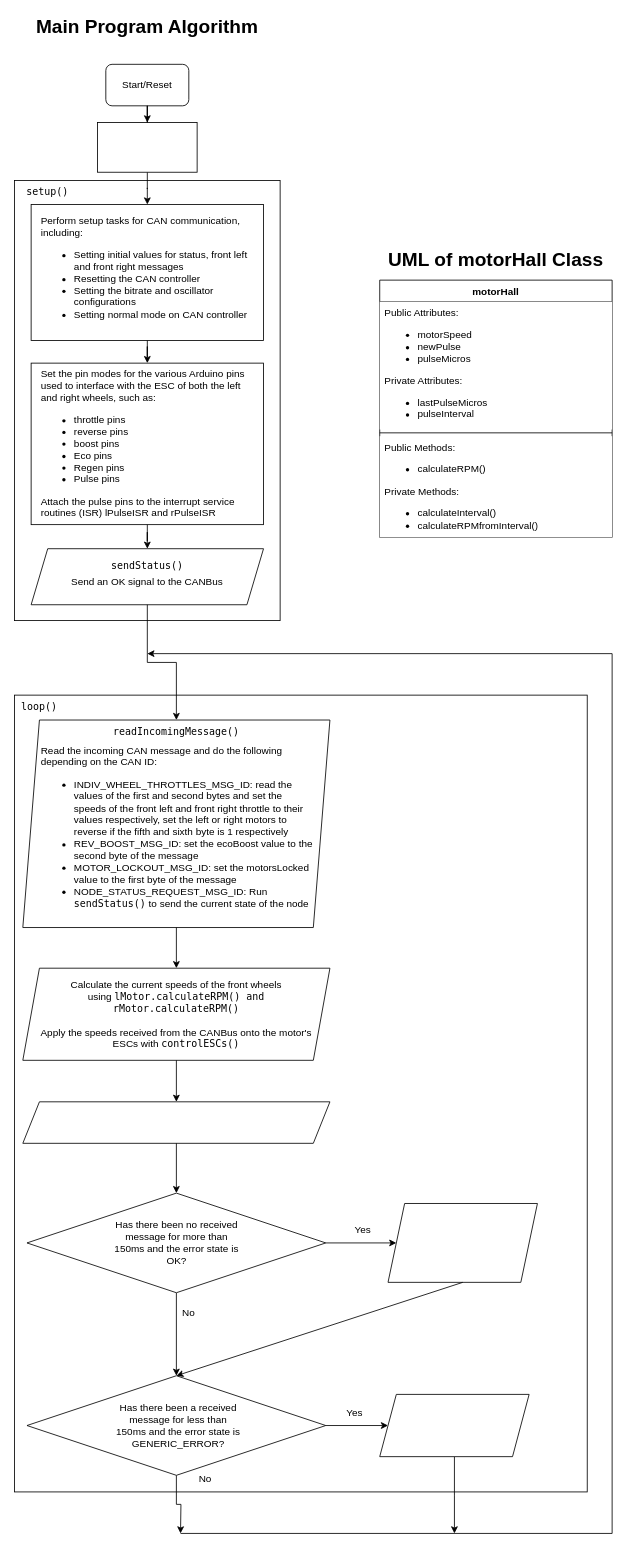
The diagram is 635 pixels wide and 1555 high, and some of its shapes have lost their labels. Each missing label, with the centre of its shape:
"Change error state to GENERIC_ERROR and send it through the CAN Bus" goes at (x=462, y=1242).
"Change error state to OK and send it through the CAN Bus" goes at (x=454, y=1425).
"Initialize 2 motorHall objects, lMotor and rMotor" goes at (x=147, y=147).
"Send the speeds of the front wheels at intervals of 10ms using sendCanMessage()" goes at (x=176, y=1122).
